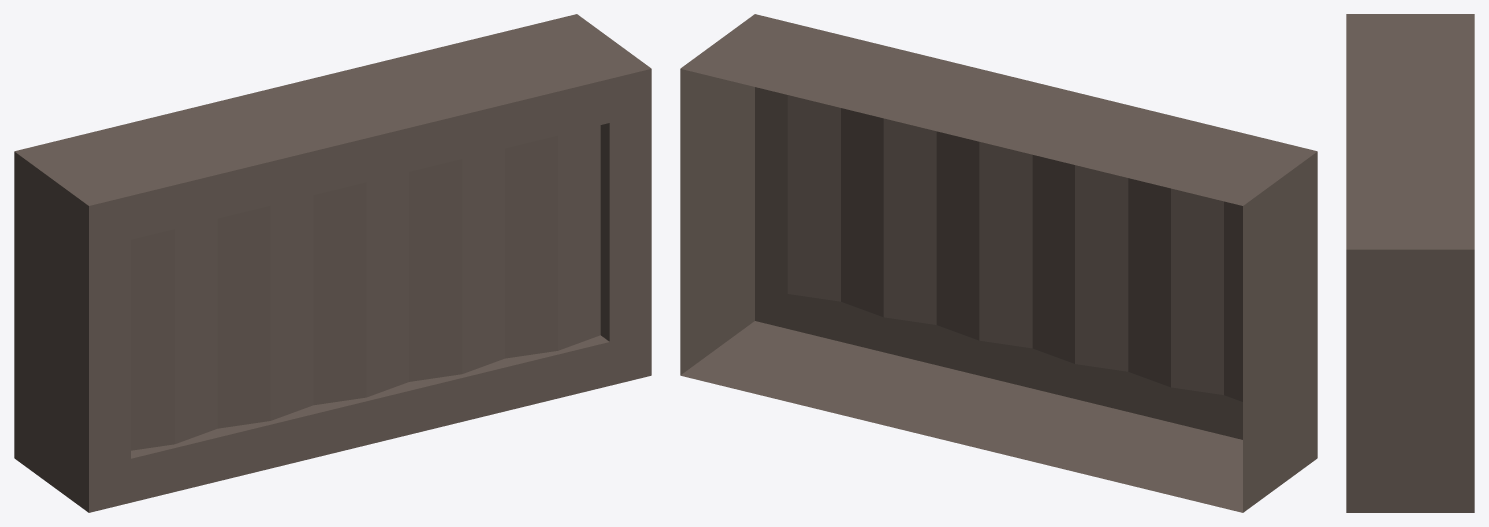
File: LP_PostApoc_WallDuct.fbx
3 views of the same model, side by side, from view 1: azimuth 30°, elevation 25°; view 2: azimuth 150°, elevation 25°; view 3: azimuth 270°, elevation 25° (orthographic). The views are drawn at different scales.
Visible parts, largest first — view 1: WallDuct; view 2: WallDuct; view 3: WallDuct.
Boxes of the visible parts, left/top/right/bottom form: WallDuct: left=14, top=14, right=651, bottom=512; WallDuct: left=680, top=14, right=1317, bottom=512; WallDuct: left=1346, top=14, right=1474, bottom=512.
Bounding box in the file's own units: 62.9 × 32.78 × 14.47.
